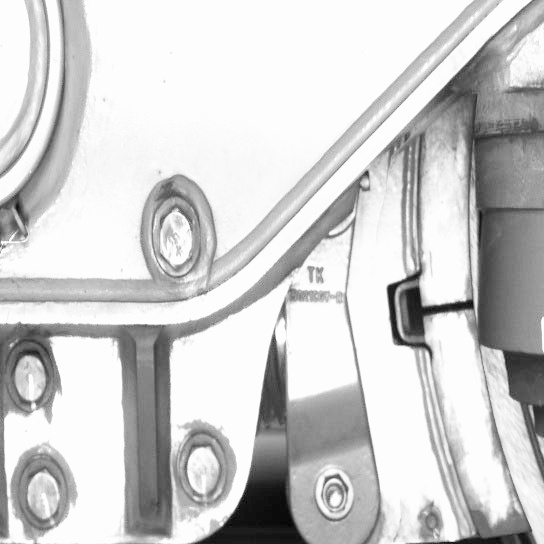ClosedKnifeSwitch: (416, 136, 541, 543)
